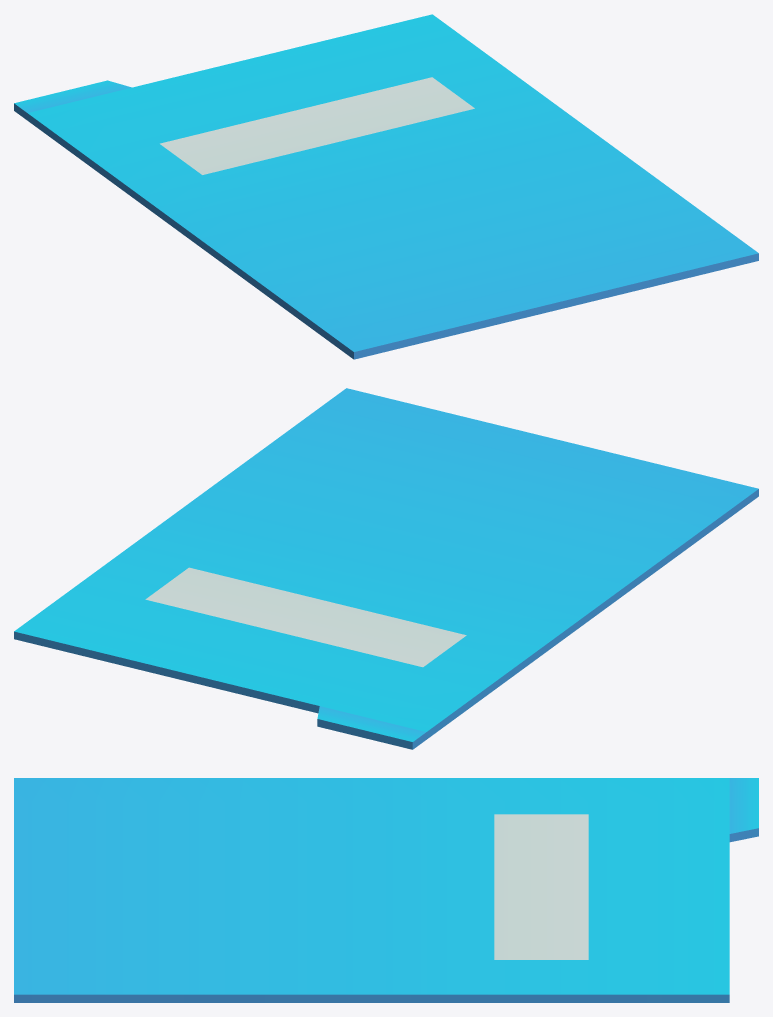
3 renders of one model, top to bottom at view 1: azimuth 30°, elevation 25°; view 2: azimuth 150°, elevation 25°; view 3: azimuth 270°, elevation 25°, orthographic. The views are drawn at different scales.
Visible parts, largest first — view 1: CR_File_001; view 2: CR_File_001; view 3: CR_File_001.
Boxes of the visible parts, bbox=[...] form: CR_File_001: bbox=[14, 14, 758, 359]; CR_File_001: bbox=[14, 388, 758, 749]; CR_File_001: bbox=[14, 778, 758, 1002].
Size of the model in its own units: 19.9 by 0.3553 by 28.93.
1 material, 1 textured.
